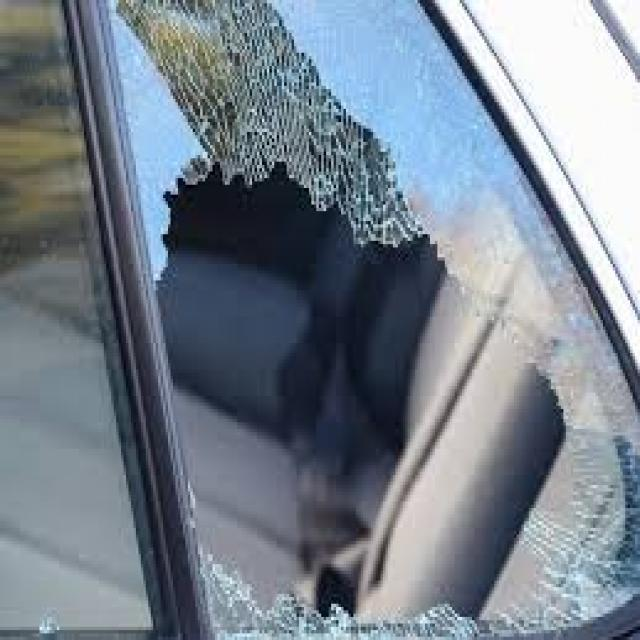damaged-window: (93, 0, 640, 640)
